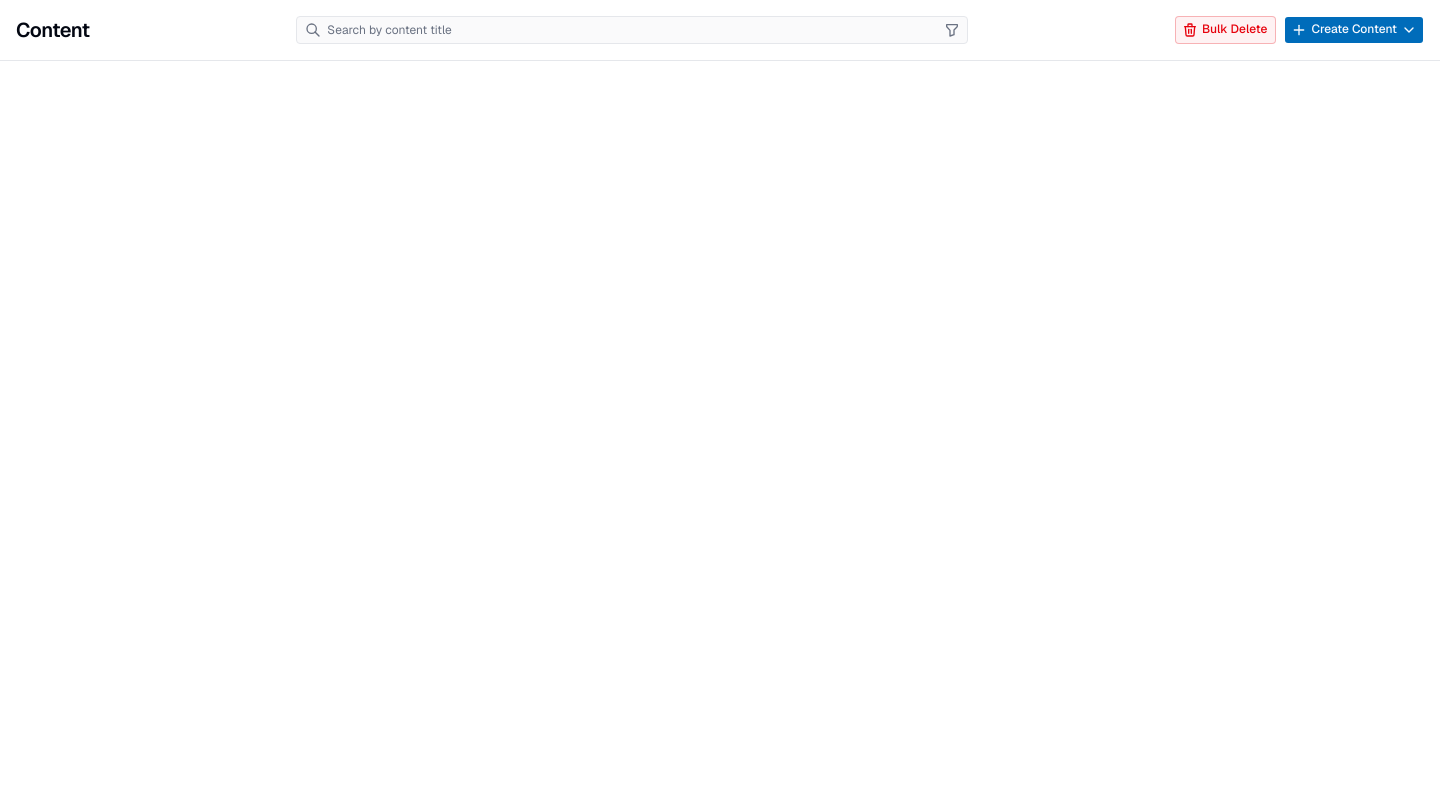
it: ContentToolbar › opens filters from the merged search control
Click the button named "Filter content": click(952, 30) [940,18,964,42]
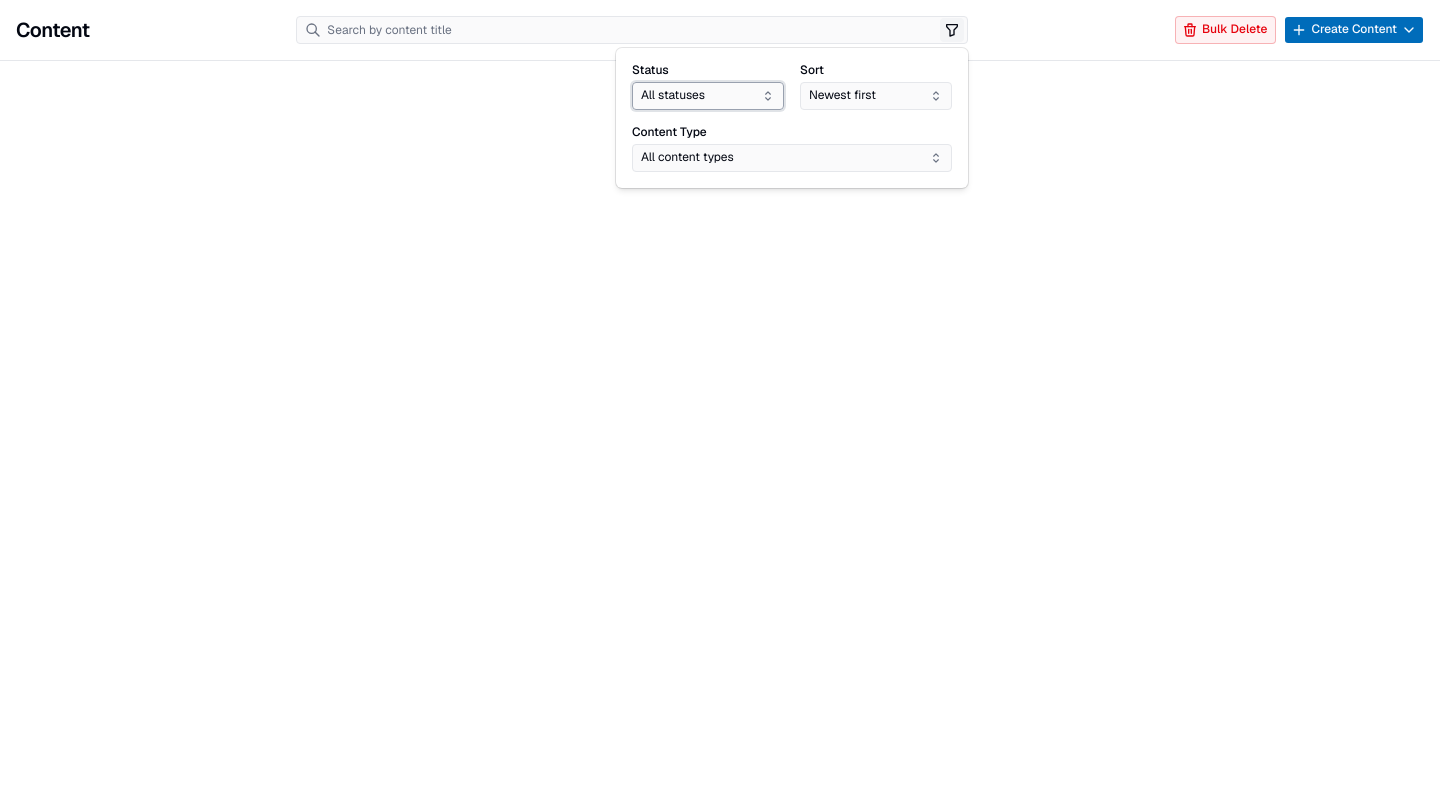
Now the dialog named "Content filters" is shown, box [616,48,968,188]
